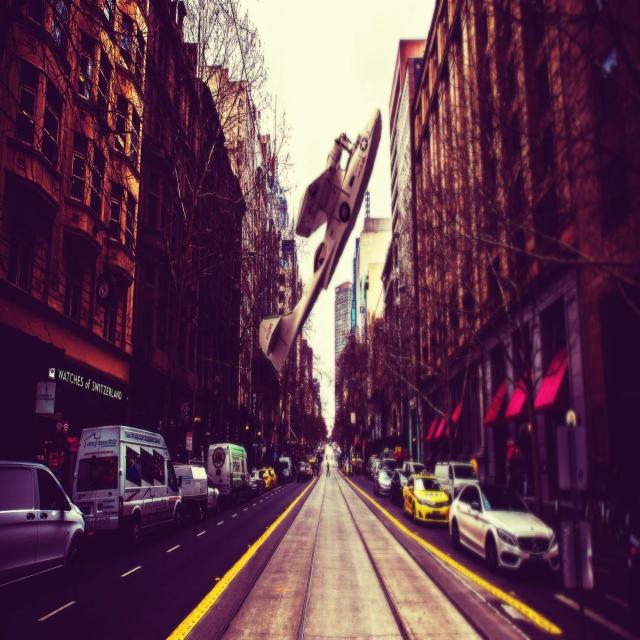airplane: (258, 106, 382, 372)
